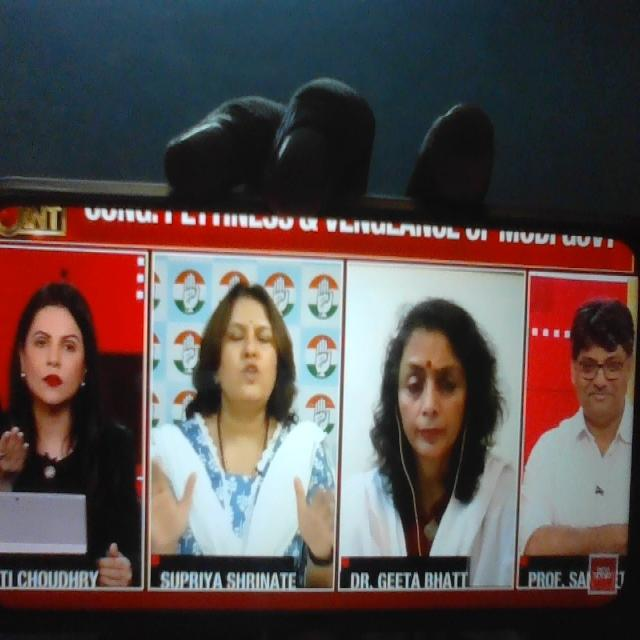fake: (374, 283, 488, 497)
